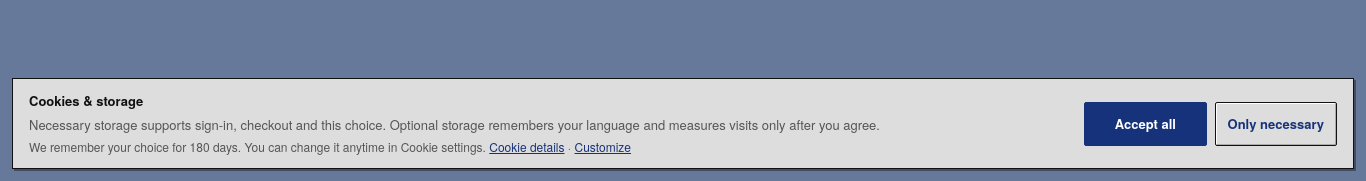
Scenario: cookie choices › keeps a visible error and allows retry when consent storage is blocked
Click the button "Accept all" at (1145, 124), box [1084,102,1206,146]
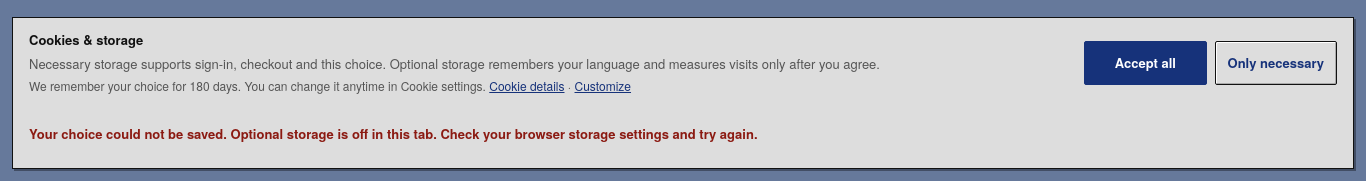
Expected: the message shows "Your choice could not be saved", [29,124,758,142]
Click the button "Only necessary" at (1276, 62), box [1215,40,1337,84]
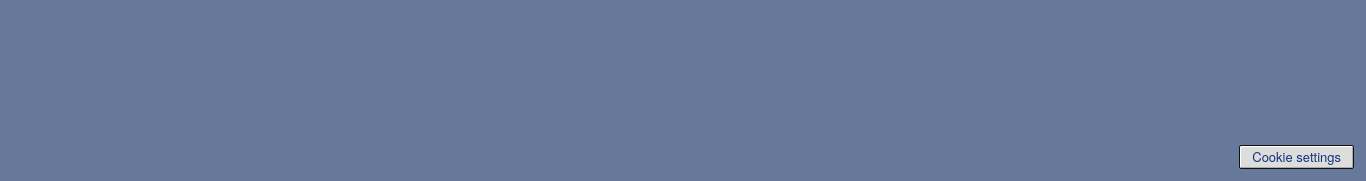
Expected: the button "Cookie settings" is shown, [1239,145,1354,169]
Expected: the message "Your choice could not be saved. Optional storage is off in this tab. Check your" is gone
